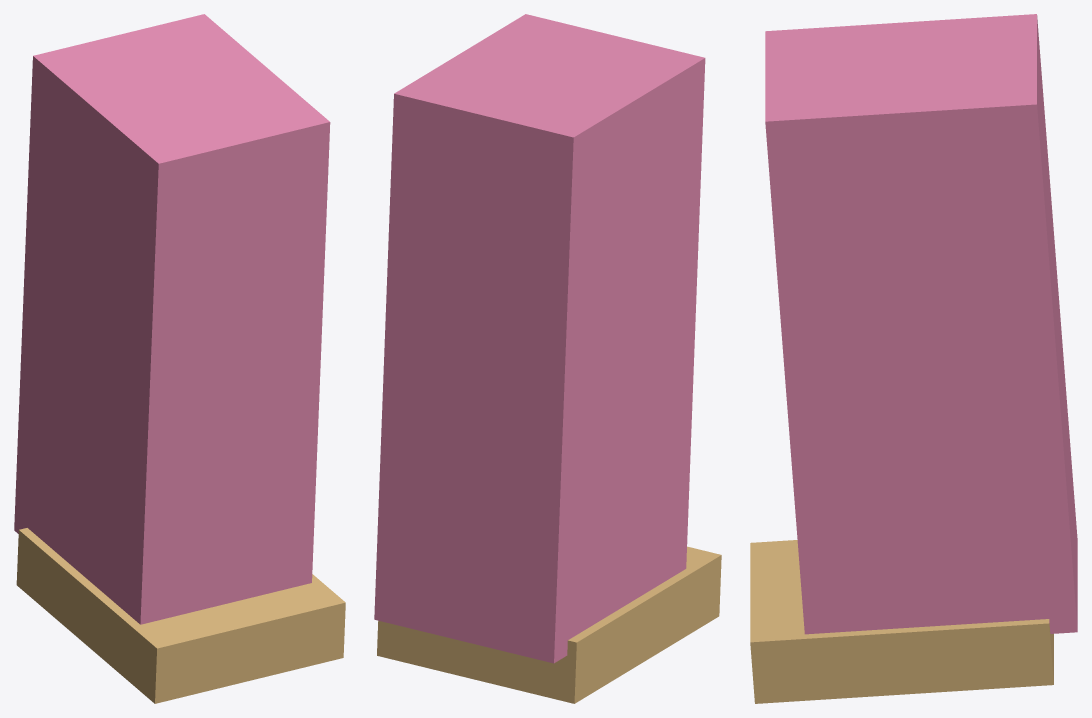
The model's file is FastMag.obj.
3 views of the same model, side by side, from view 1: azimuth 30°, elevation 25°; view 2: azimuth 150°, elevation 25°; view 3: azimuth 270°, elevation 25° (orthographic). The views are drawn at different scales.
Visible parts, largest first — view 1: FastMag_Body, FastMag_Detail; view 2: FastMag_Body, FastMag_Detail; view 3: FastMag_Body, FastMag_Detail.
Boxes of the visible parts, bbox=[...] form: FastMag_Body: bbox=[14, 14, 330, 624]; FastMag_Detail: bbox=[16, 528, 345, 703]; FastMag_Body: bbox=[374, 14, 705, 663]; FastMag_Detail: bbox=[377, 546, 721, 703]; FastMag_Body: bbox=[765, 14, 1077, 634]; FastMag_Detail: bbox=[750, 540, 1053, 703].
Size of the model in its own units: 0.121 by 0.3374 by 0.1683.
